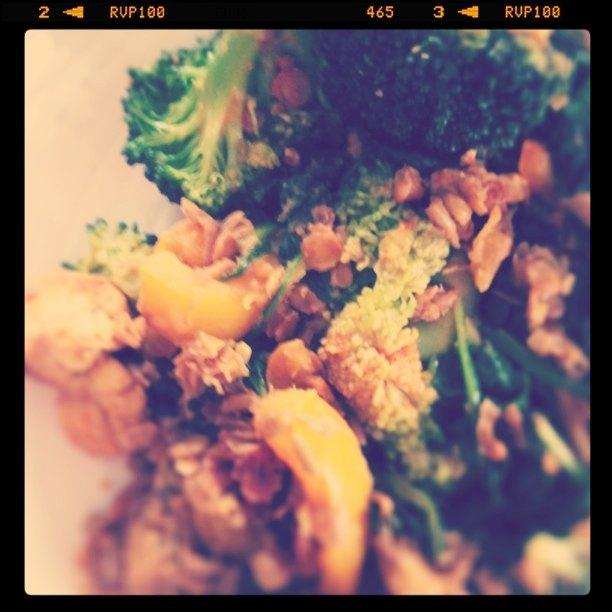broccoli: (119, 29, 377, 230), (298, 31, 562, 178), (486, 30, 590, 212), (362, 434, 444, 564), (59, 218, 158, 320), (365, 416, 467, 487), (333, 160, 394, 227), (468, 336, 523, 410), (242, 322, 278, 394), (278, 230, 302, 270)
